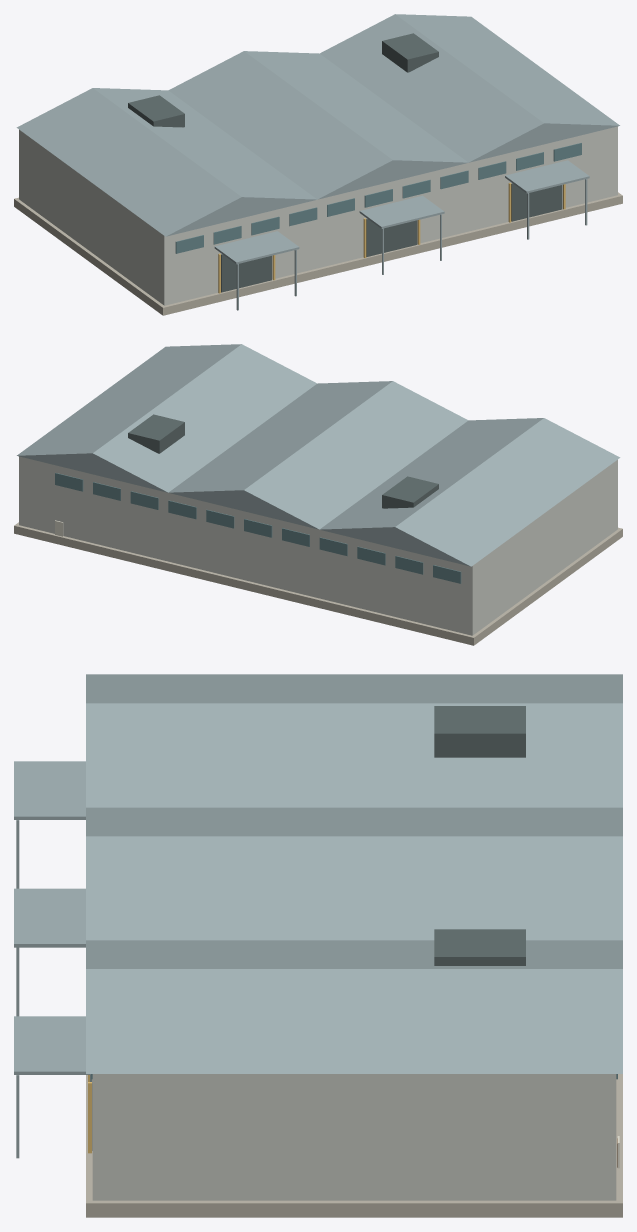
3 renders of one model, top to bottom at view 1: azimuth 30°, elevation 25°; view 2: azimuth 150°, elevation 25°; view 3: azimuth 270°, elevation 25°, orthographic. The views are drawn at different scales.
Bounding box in the file's own units: 73 × 15.5 × 46.5.
